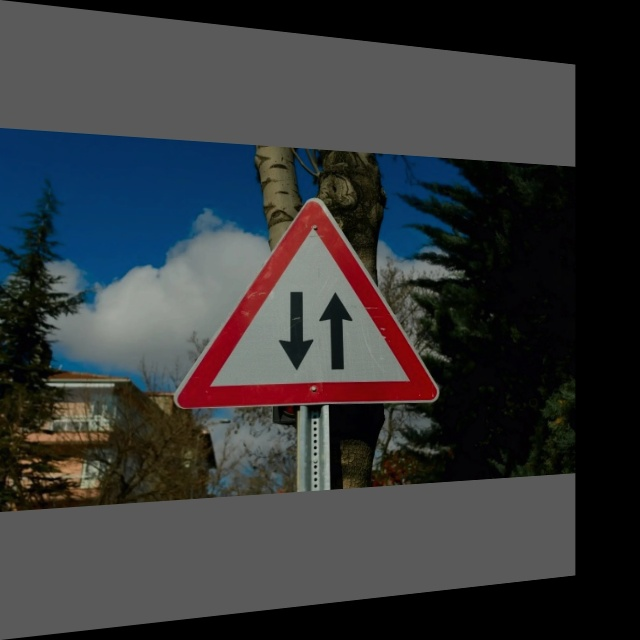Mandatory_Two_Way_Traffic: (175, 192, 439, 415)
